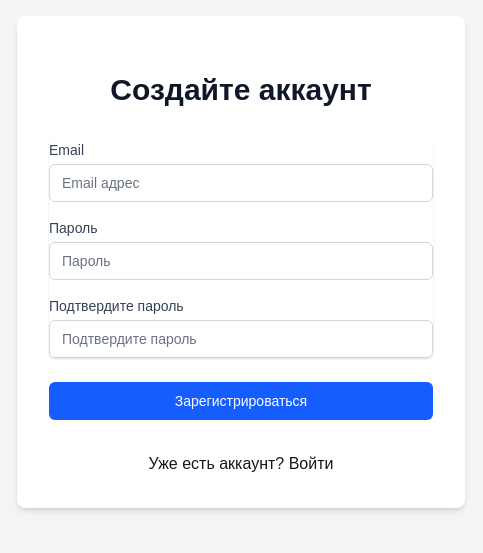
Test: SignUpContent › показывает ошибку при несовпадении паролей
Type "test@example.com" into the field labelled "Email" at (241, 183), box [49,164,433,202]
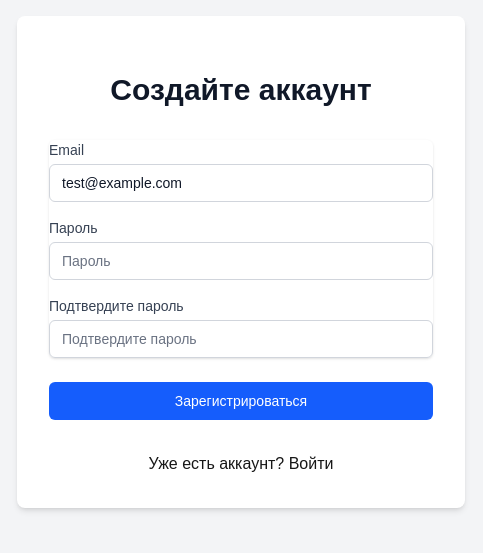
Type "password123" into the password field labelled "Пароль" at (241, 261), box [49,242,433,280]
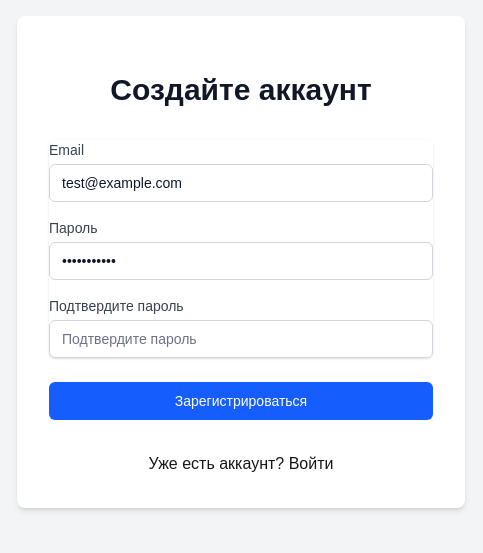
Type "другойпароль" into the password field labelled "Подтвердите пароль" at (241, 339), box [49,320,433,358]
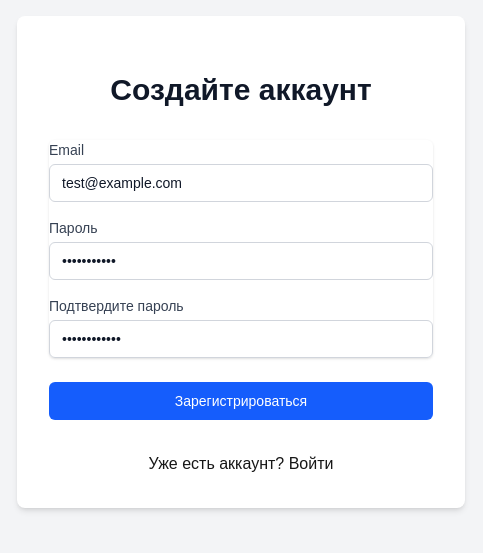
Click the button "Зарегистрироваться" at (241, 401), box [49,382,433,420]
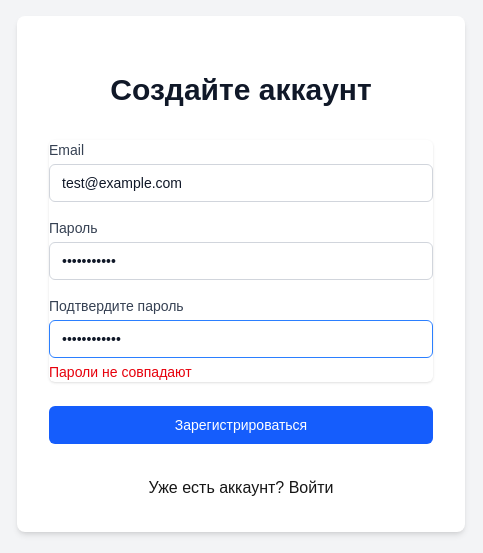
Check: the text "Пароли не совпадают" is shown, box [49,364,192,380]
